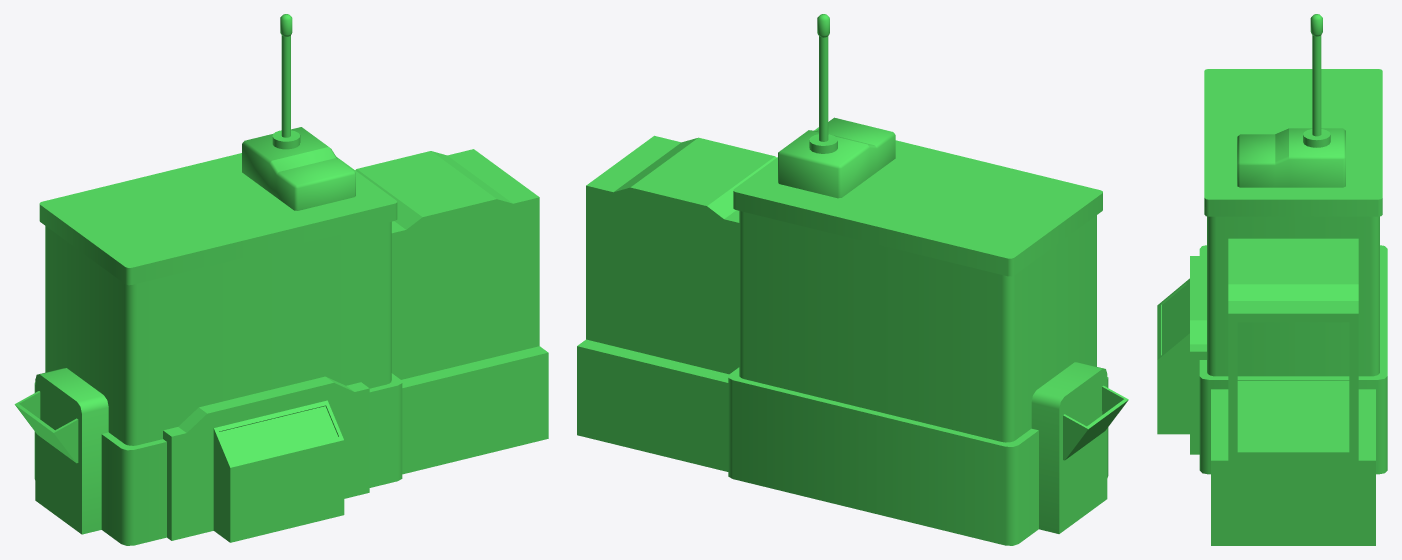
Rendered from Fabricator_Rendermesh.fbx.
The picture shows the model from 3 angles, left to right: view 1: azimuth 30°, elevation 25°; view 2: azimuth 150°, elevation 25°; view 3: azimuth 270°, elevation 25°; orthographic projection. The views are drawn at different scales.
Visible parts, largest first — view 1: Fabricator_RenderMesh; view 2: Fabricator_RenderMesh; view 3: Fabricator_RenderMesh.
Part boxes in pixels (left/top/right/bottom): Fabricator_RenderMesh: left=14, top=14, right=548, bottom=545; Fabricator_RenderMesh: left=577, top=14, right=1128, bottom=545; Fabricator_RenderMesh: left=1157, top=14, right=1387, bottom=545.
Size of the model in its own units: 5.74 by 5.06 by 2.45.
